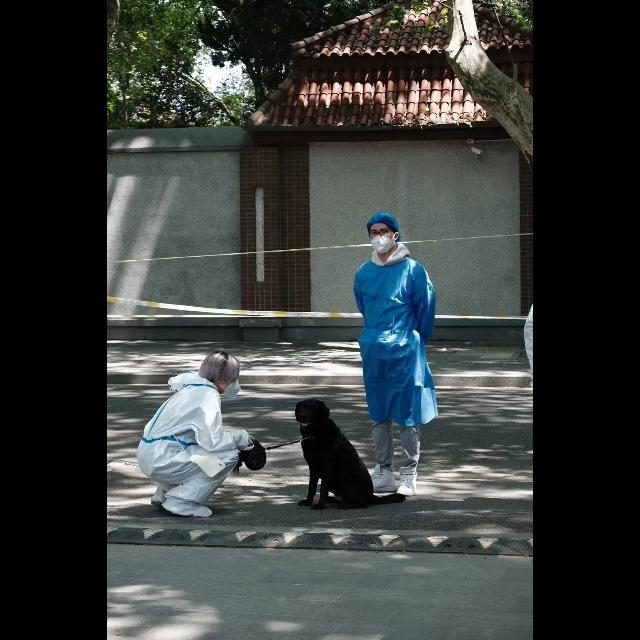masks: (371, 240, 395, 258)
